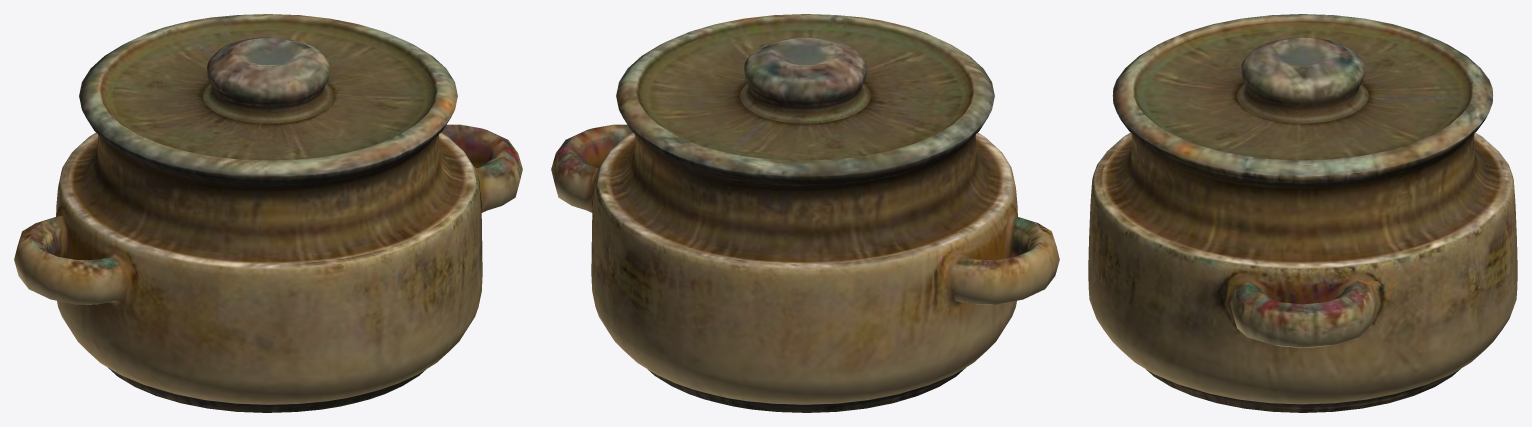
File: ph_ceramic_pot.glb
3 views of the same model, side by side, from view 1: azimuth 30°, elevation 25°; view 2: azimuth 150°, elevation 25°; view 3: azimuth 270°, elevation 25° (orthographic).
Visible parts, largest first — view 1: ceramic_pot; view 2: ceramic_pot; view 3: ceramic_pot.
Part boxes in pixels (<box>): ceramic_pot: <box>14,14,522,412</box>; ceramic_pot: <box>551,14,1059,412</box>; ceramic_pot: <box>1088,14,1517,412</box>.
Bounding box in the file's own units: 0.6563 × 0.3717 × 0.5018.
1 material, 1 textured.
